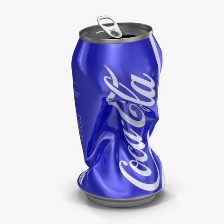can: (67, 14, 168, 210)
